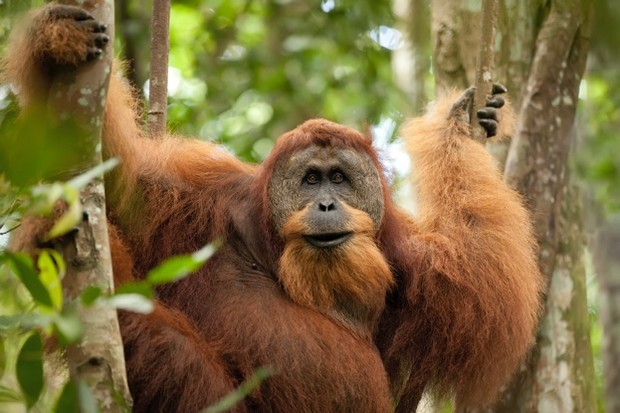Orangutan: (117, 87, 495, 404)
